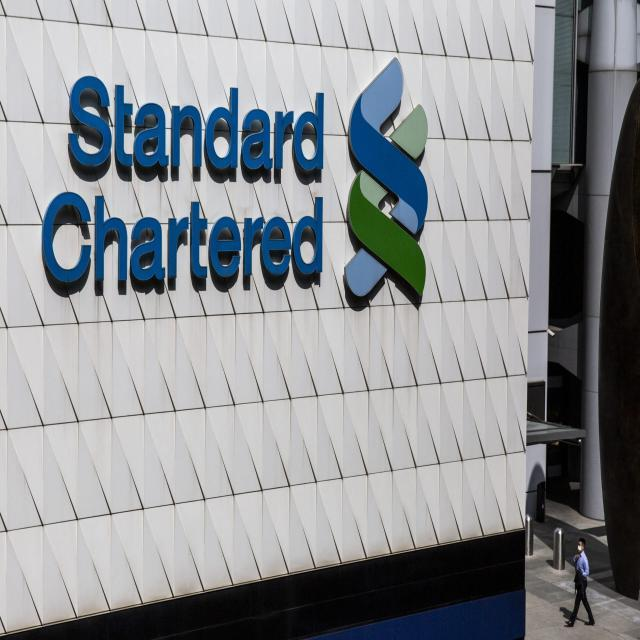Standard Chartered: (40, 56, 427, 306)
